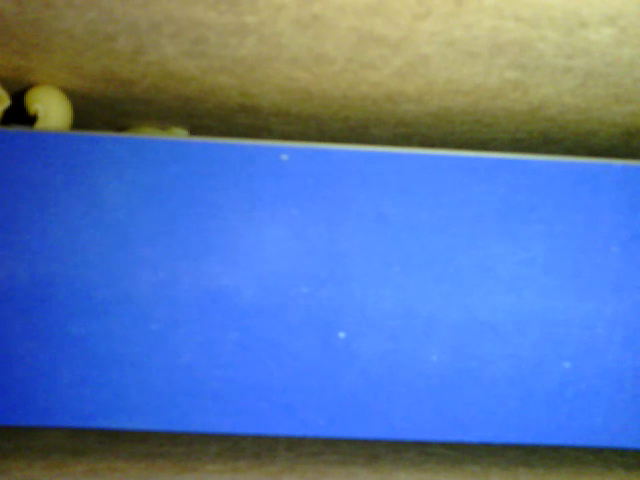shell: (24, 84, 73, 130)
